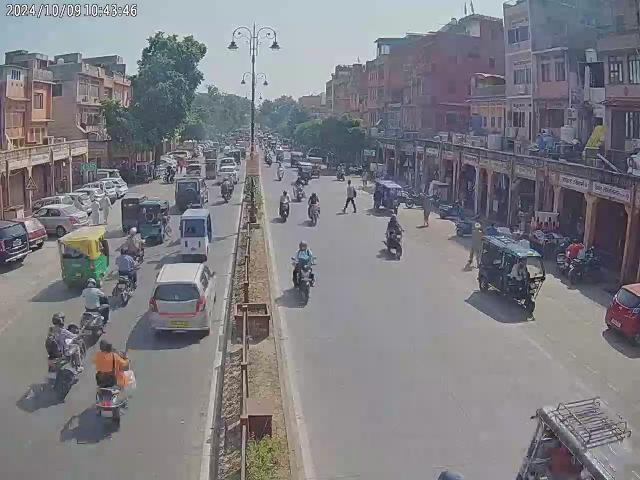auto: (517, 398, 640, 476), (476, 229, 546, 316), (58, 225, 110, 291), (119, 193, 169, 243), (180, 207, 212, 258), (372, 180, 402, 212)
car: (148, 260, 214, 338), (605, 284, 640, 345), (175, 176, 208, 213), (100, 175, 128, 199)
helmet: (52, 312, 66, 326), (100, 338, 113, 351), (298, 240, 308, 251), (86, 278, 96, 289), (128, 227, 138, 236), (119, 246, 129, 254)
motorbike: (566, 254, 605, 282)
motorbike-rider: (42, 312, 86, 402), (289, 240, 317, 304), (112, 246, 138, 302), (384, 212, 405, 260), (305, 192, 321, 225)
person: (468, 220, 484, 269), (345, 181, 357, 213)
scooty: (455, 213, 483, 236), (437, 200, 465, 220)
scooty-rider: (90, 339, 134, 433), (82, 278, 114, 341), (124, 227, 147, 269), (278, 190, 290, 222), (292, 175, 306, 202), (336, 164, 346, 181)
